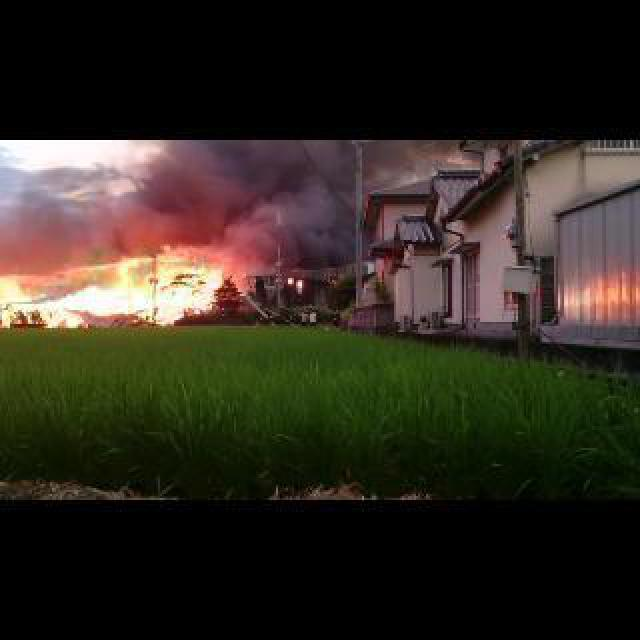Fire: (2, 248, 230, 324)
Smoke: (2, 137, 370, 266)
